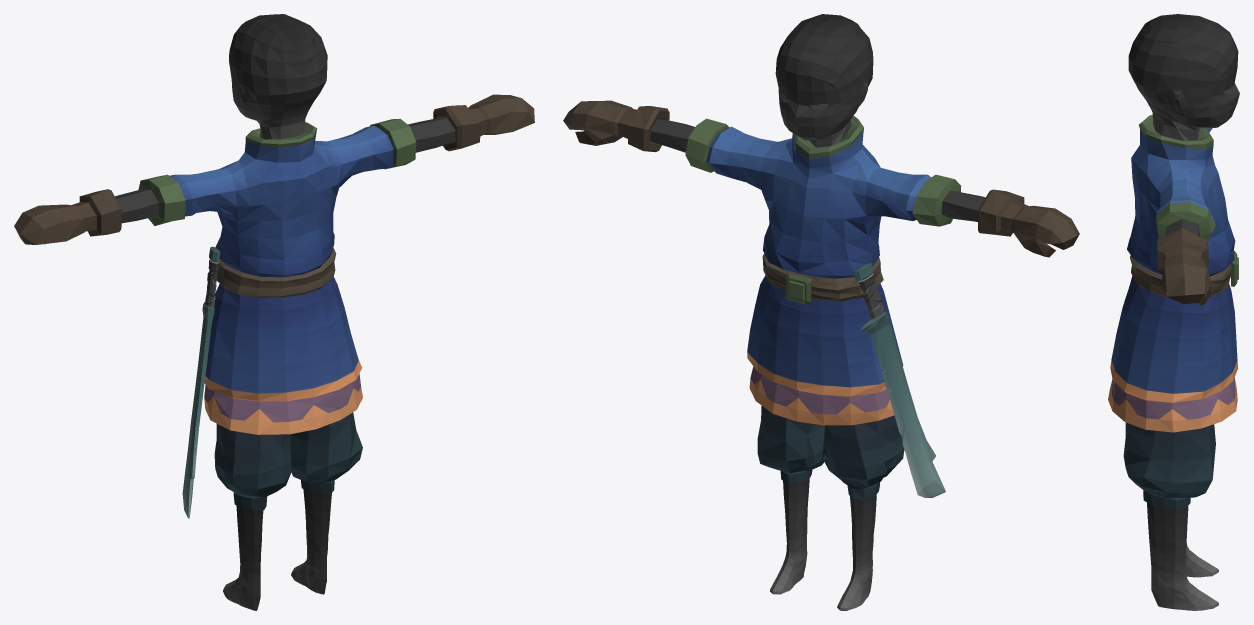
File: CharSkyKid_Body_AP27Guard.glb
3 views of the same model, side by side, from view 1: azimuth 30°, elevation 25°; view 2: azimuth 150°, elevation 25°; view 3: azimuth 270°, elevation 25° (orthographic).
Parts seen in each view (by area): view 1: CharSkyKid_Body_AP27Guard; view 2: CharSkyKid_Body_AP27Guard; view 3: CharSkyKid_Body_AP27Guard.
Boxes of the visible parts, x1,y1,x2,y2 form: CharSkyKid_Body_AP27Guard: [14, 14, 534, 610]; CharSkyKid_Body_AP27Guard: [563, 14, 1079, 610]; CharSkyKid_Body_AP27Guard: [1108, 14, 1239, 610].
Bounding box in the file's own units: 13.98 × 14.94 × 3.13.
Materials: 1 (1 with a texture image).
